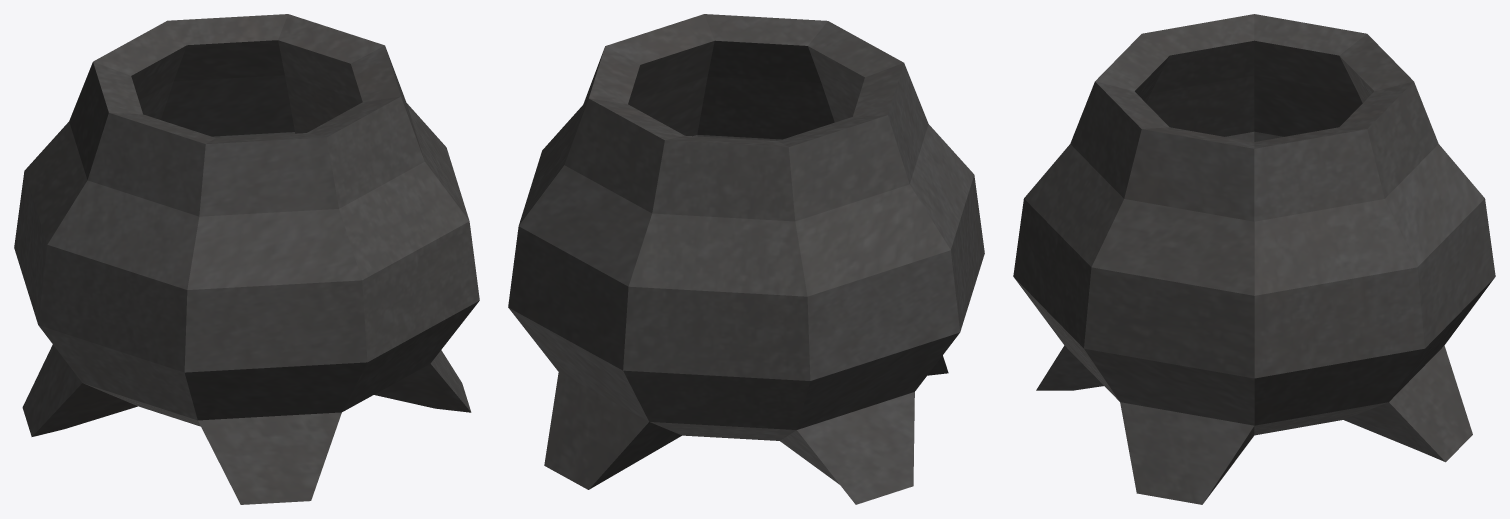
Rendered from cookingpot.glb.
3 renders of one model, left to right at view 1: azimuth 30°, elevation 25°; view 2: azimuth 150°, elevation 25°; view 3: azimuth 270°, elevation 25°, orthographic. The views are drawn at different scales.
Parts seen in each view (by area): view 1: cookingpot; view 2: cookingpot; view 3: cookingpot.
Boxes of the visible parts, x1,y1,x2,y2 form: cookingpot: (14,14,479,504); cookingpot: (508,14,984,504); cookingpot: (1013,14,1495,504).
Size of the model in its own units: 0.8964 by 0.6791 by 0.8964.
Materials: 1 (1 with a texture image).
